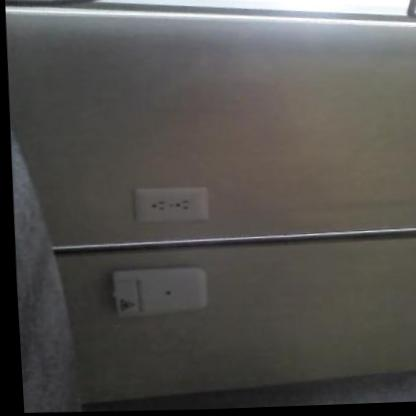OUTLET: (132, 185, 207, 223)
